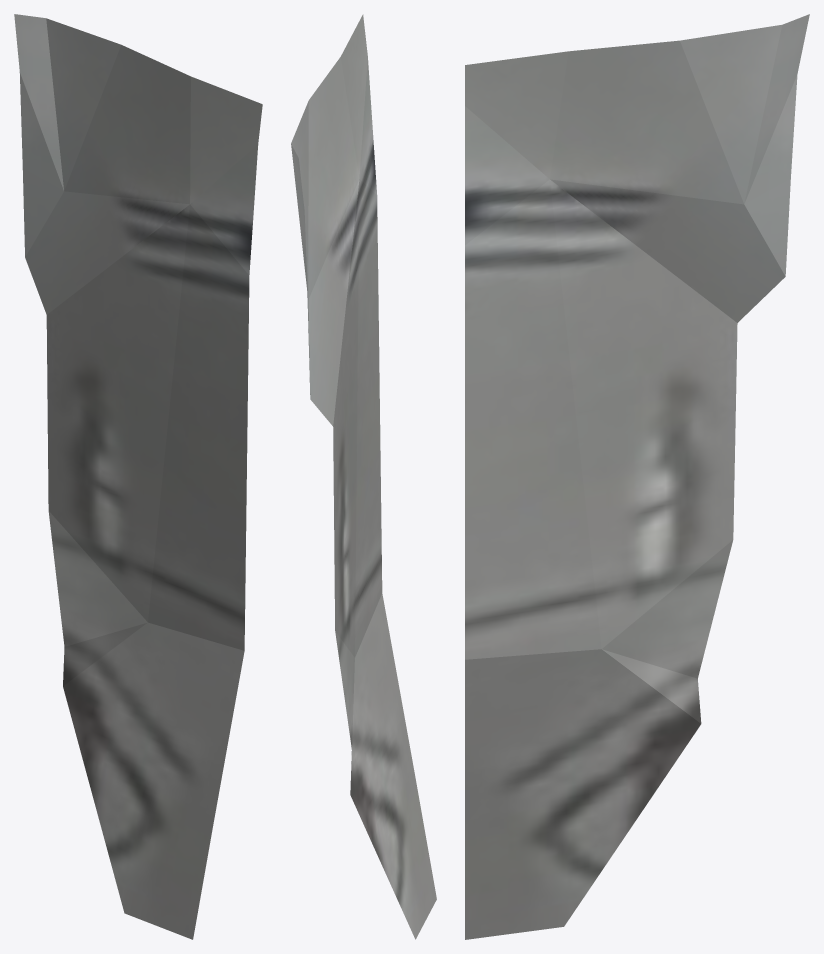
The picture shows the model from 3 angles, left to right: view 1: azimuth 30°, elevation 25°; view 2: azimuth 150°, elevation 25°; view 3: azimuth 270°, elevation 25°; orthographic projection. The views are drawn at different scales.
Size of the model in its own units: 0.1005 by 0.8374 by 0.2867.
Materials: 1 (1 with a texture image).
